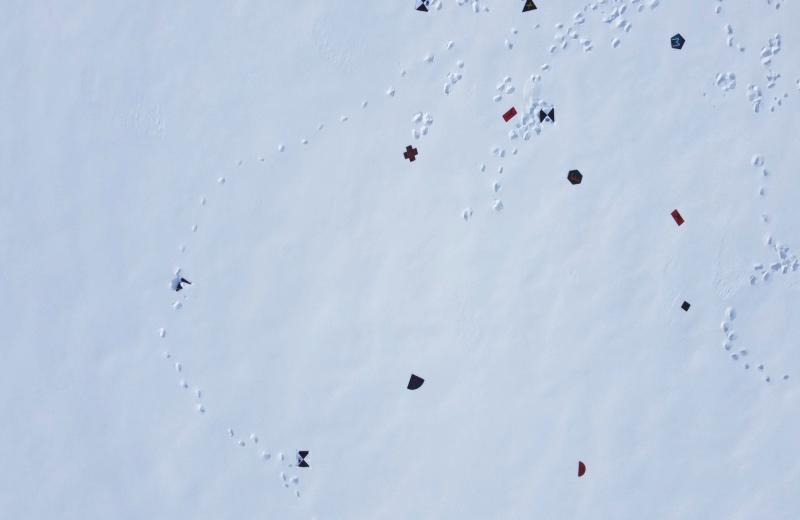Cross: (404, 144, 420, 163)
Hexagon: (566, 168, 584, 186)
Pentagon: (670, 32, 688, 50)
Quarter Circle: (406, 372, 426, 392)
Rectangle: (670, 207, 684, 228), (500, 106, 518, 122)
Semi Circle: (576, 460, 586, 479)
Square: (680, 300, 691, 312)
Triangle: (520, 0, 539, 14)
